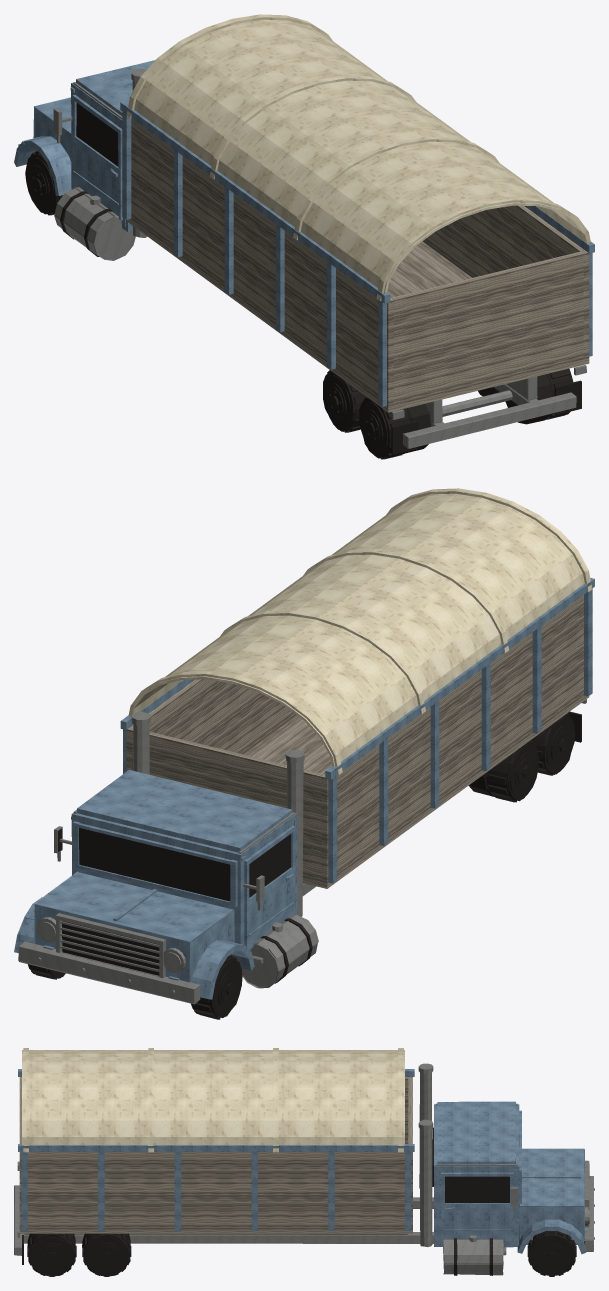
The model's file is prairie_schooner.glb.
The picture shows the model from 3 angles, top to bottom: view 1: azimuth 30°, elevation 25°; view 2: azimuth 150°, elevation 25°; view 3: azimuth 270°, elevation 25°; orthographic projection. The views are drawn at different scales.
Parts seen in each view (by area): view 1: PrairieSchooner, Cover, Tailgate, Door_L, Wheel_L3, Wheel_L2, Glass_L, Wheel_L1, Wheel_R3; view 2: PrairieSchooner, Cover, Door_L, Wheel_L2, Wheel_L3, Wheel_L1, Glass_L; view 3: PrairieSchooner, Cover, Door_R, Wheel_R3, Wheel_R2, Wheel_R1, Glass_R.
Boxes of the visible parts, x1,y1,x2,y2 form: PrairieSchooner: [14, 60, 594, 454]; Cover: [126, 14, 590, 301]; Tailgate: [391, 251, 583, 405]; Door_L: [72, 94, 122, 220]; Wheel_L3: [359, 397, 430, 459]; Wheel_L2: [323, 370, 366, 432]; Glass_L: [76, 103, 118, 166]; Wheel_L1: [25, 151, 62, 215]; Wheel_R3: [505, 368, 573, 424]; PrairieSchooner: [14, 578, 594, 1004]; Cover: [128, 488, 592, 774]; Door_L: [244, 826, 295, 949]; Wheel_L2: [468, 739, 539, 802]; Wheel_L3: [532, 713, 575, 775]; Wheel_L1: [191, 955, 242, 1019]; Glass_L: [249, 834, 290, 897]; PrairieSchooner: [14, 1063, 594, 1275]; Cover: [22, 1048, 404, 1152]; Door_R: [441, 1172, 513, 1241]; Wheel_R3: [27, 1233, 76, 1276]; Wheel_R2: [82, 1233, 131, 1276]; Wheel_R1: [527, 1231, 576, 1276]; Glass_R: [445, 1176, 509, 1202].
Size of the model in its own units: 3.41 by 3.52 by 10.09.
5 materials, 4 textured.
